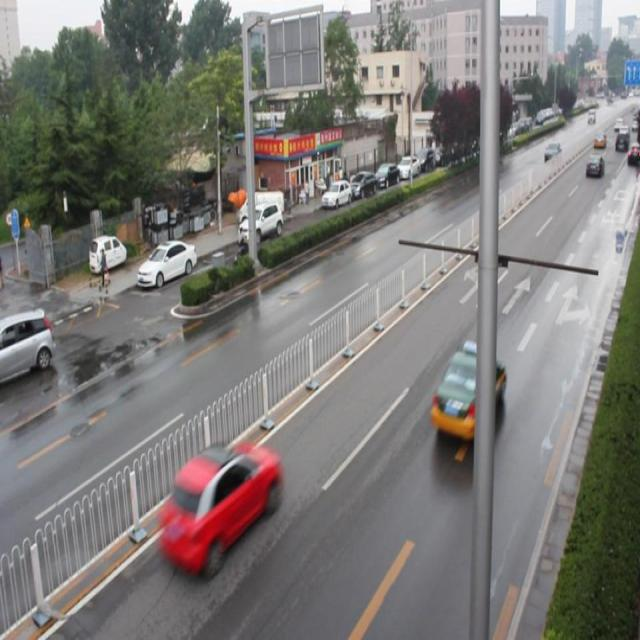car: (159, 432, 281, 577), (430, 344, 507, 446)
